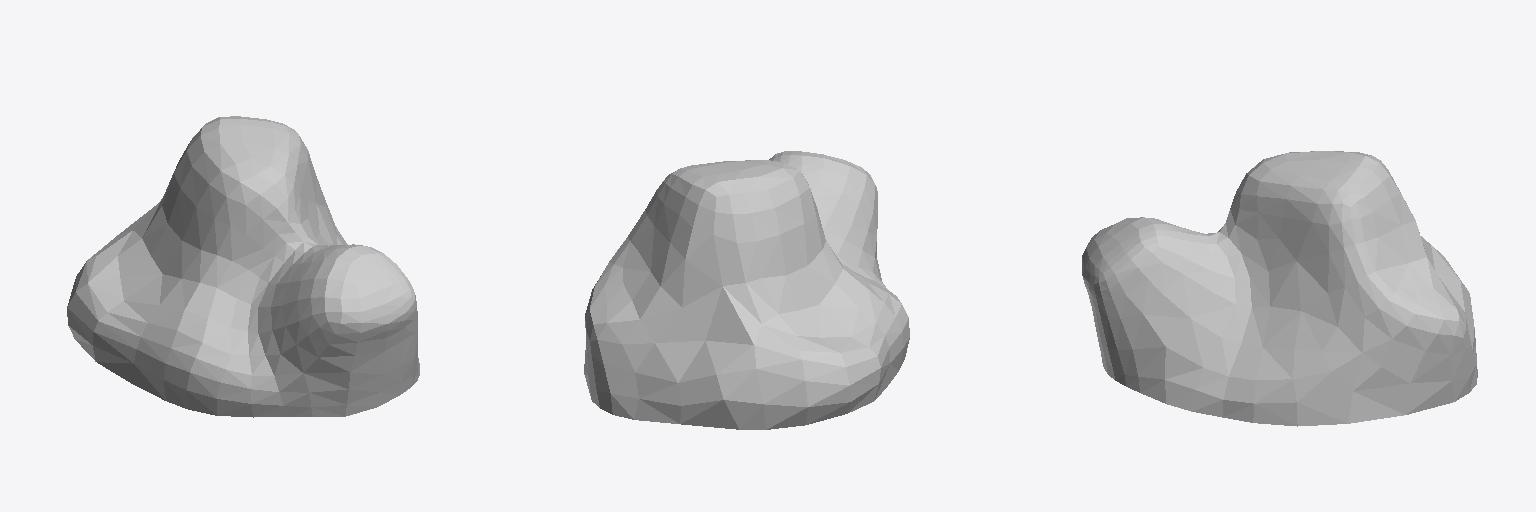
The model's file is stone6.obj.
3 renders of one model, left to right at view 1: azimuth 30°, elevation 25°; view 2: azimuth 150°, elevation 25°; view 3: azimuth 270°, elevation 25°, orthographic.
Visible parts, largest first — view 1: stone6_Group1.005; view 2: stone6_Group1.005; view 3: stone6_Group1.005.
Boxes of the visible parts, x1=… form: stone6_Group1.005: x1=67, y1=116, x2=419, y2=417; stone6_Group1.005: x1=584, y1=151, x2=909, y2=429; stone6_Group1.005: x1=1082, y1=151, x2=1477, y2=426.
Bounding box in the file's own units: 2.06 × 1.48 × 2.56.